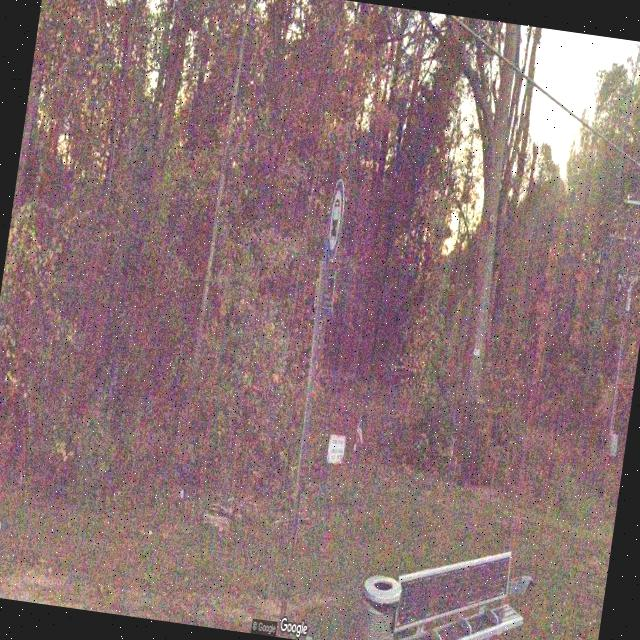seating: (385, 534, 533, 640)
trash_can: (354, 572, 403, 640)
